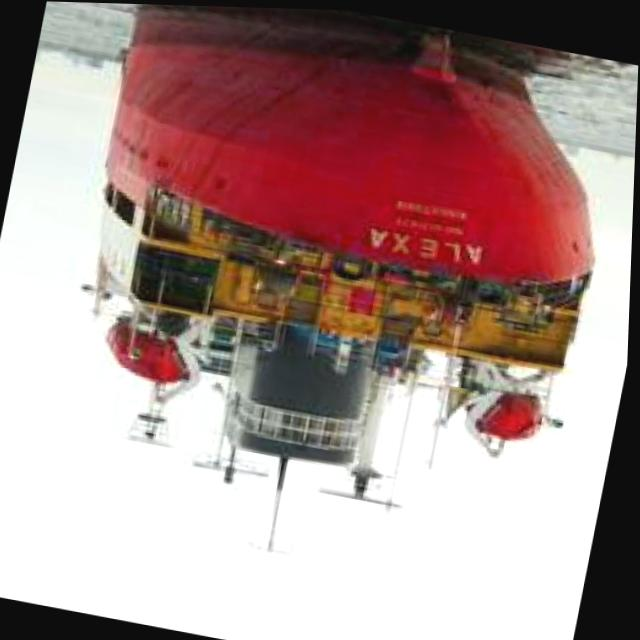ship2: (103, 3, 598, 549)
